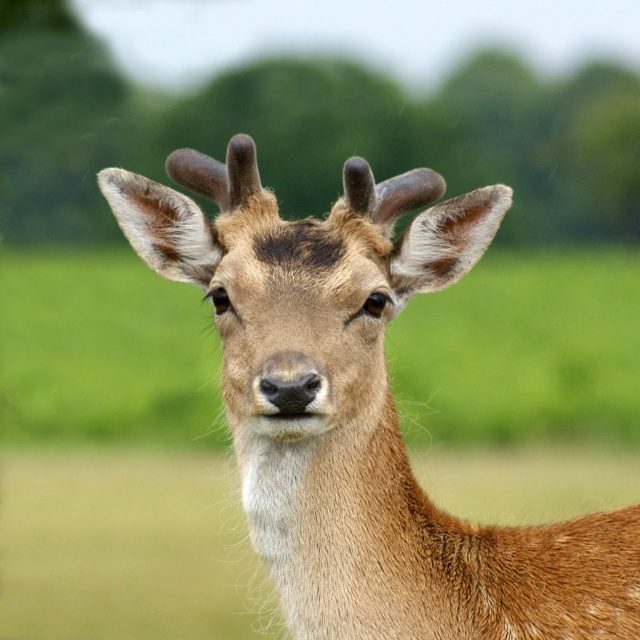Deer: (94, 134, 640, 640)
